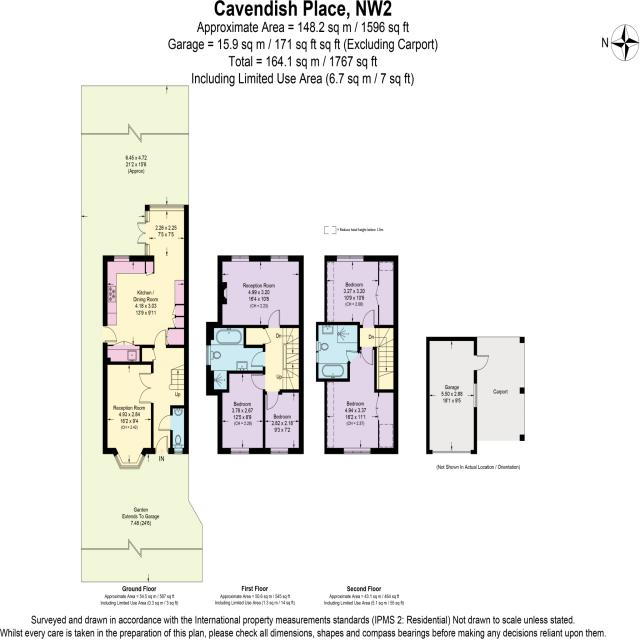DOOR: (266, 390, 280, 411), (102, 325, 118, 343), (250, 350, 266, 368), (267, 309, 281, 329), (250, 374, 266, 391), (154, 329, 167, 349), (362, 309, 375, 329), (158, 414, 173, 431), (361, 346, 374, 365), (156, 436, 168, 454), (262, 328, 273, 346), (346, 350, 359, 364)
DOUBLE DOOR: (138, 372, 154, 405), (136, 222, 147, 245)
ROOM: (102, 204, 189, 349), (324, 346, 399, 455), (217, 255, 304, 329), (102, 357, 154, 470), (324, 255, 399, 329), (217, 371, 266, 454), (262, 388, 304, 455)
WINDOW: (149, 204, 185, 212), (343, 447, 371, 455), (336, 255, 364, 263), (270, 254, 289, 263), (119, 462, 140, 470), (205, 344, 212, 367), (230, 447, 250, 455), (136, 453, 145, 470), (114, 453, 123, 470), (113, 254, 130, 263), (270, 447, 289, 455), (231, 255, 250, 263), (144, 210, 150, 222), (144, 244, 150, 256), (174, 447, 183, 455), (316, 341, 319, 352), (316, 352, 319, 363)
